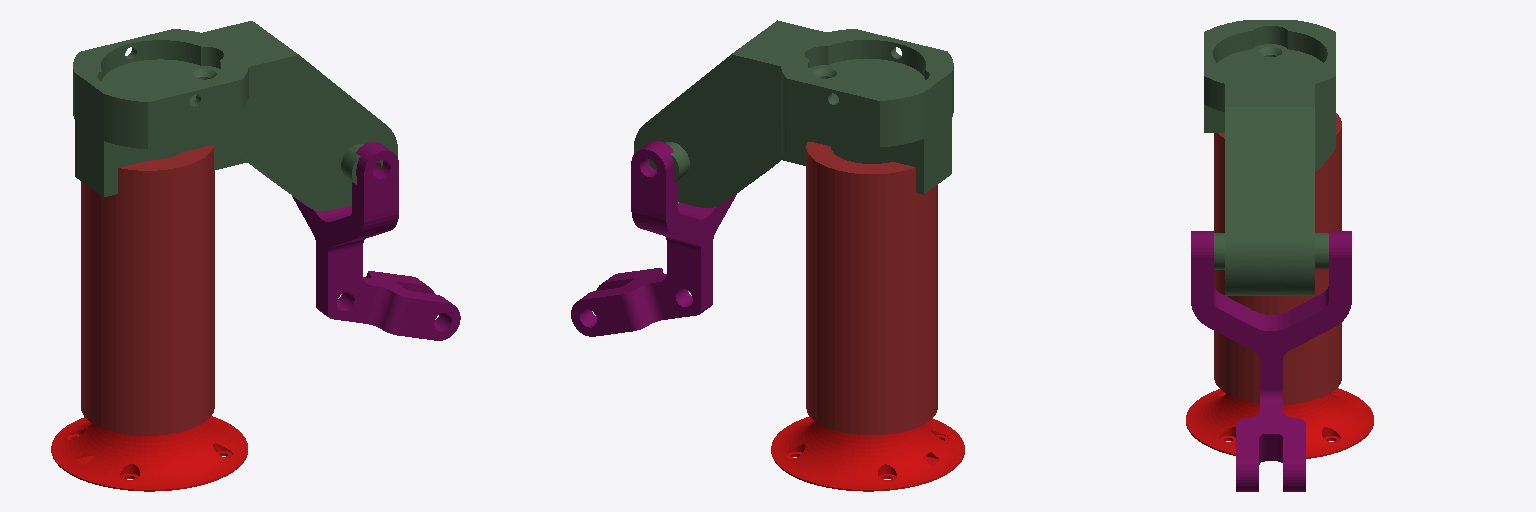
URDF robot description (PRRrobotstl):
<?xml version="1.0"?>
<robot name="PRRrobotstl">
    <!-- [author]/[number redacted] -->
    <material name = 'color1'>
        <color rgba='0.6 0.2 0.2 0.8' />
    </material>
    <material name = 'color2'>
        <color rgba='0.3 0.4 0.3 0.9' />
    </material>
    <material name = 'color3'>
        <color rgba='0.5 0.1 0.4 0.7' />
    </material>
    <material name = 'colorbase'>
        <color rgba='0.8 0.1 0.1 0.9' />
    </material>
    <link name="baseLink" >
        <visual>
            <geometry>
                <mesh filename="package://PRRproje/base3.stl"/>
            </geometry>
            <material name='colorbase' />
            <origin xyz="0 0 -0.15" />
        </visual>
        <collision>
            <geometry>
                <box size='2 2 0.1' />
            </geometry>
        </collision>
    </link>
    <link name="prismaticLink" >
        <visual>
            <geometry>
                <mesh filename="package://PRRproje/prismatic.stl"/>
            </geometry>
            <material name='color1' />
            <origin xyz="-0.625 1.24 -0.3" />
        </visual>
        <collision>
            <geometry>
                <cylinder radius="0.25" length="0.8"  />
            </geometry>
        </collision>
    </link>
    <link name="revoluteLink1" >
        <visual>
            <geometry>
                <mesh filename="package://PRRproje/shoulder.stl"/>
            </geometry>
            <material name='color2' />
            <origin  xyz="-0.960 -0.18 -0.2"/>
        </visual>
        <collision>
            <geometry>
                <box size='0.3 0.3 0.8' />
            </geometry>
        </collision>
    </link>
    <link name="revoluteLink2" >
        <visual>
            <geometry>
                <mesh filename="package://PRRproje/gridle.stl"/>
            </geometry>
            <material name='color3' />
            <origin  xyz="0.22 0.225 0"/>
        </visual>
        <collision>
            <geometry>
                <box size='0.2 0.2 0.8' />
            </geometry>
        </collision>
    </link>
    <joint name="baseToprismatic" type="prismatic">
        <parent link="baseLink" />
        <child link="prismaticLink" />
        <axis xyz="0 0 1" />
        <limit effort='30' velocity='1.0' lower="-1" upper="1" />
    </joint>
    <joint name="prismaticTorevolute1" type="revolute">
        <parent link="prismaticLink" />
        <child link="revoluteLink1" />
        <limit effort='30' velocity='1.0' lower="-1" upper="1" />
        <origin xyz="0 0 0.8" rpy="0 1.5708 0" />
        <axis xyz="0 1 0" />
    </joint>
    <joint name="revolute1Torevolute2" type="revolute">
        <parent link="revoluteLink1" />
        <child link="revoluteLink2" />
        <limit effort='30' velocity='1.0' lower="-1" upper="1" />
        <origin xyz="0 0 0.8" rpy="0 1.5708 0" />
        <axis xyz="1 0 0" />
    </joint>
</robot>

--- Facts derived from the render (not from the file) ---
Views: 3 orthographic renders of the robot side by side, from view 1: azimuth 30°, elevation 25°; view 2: azimuth 150°, elevation 25°; view 3: azimuth 270°, elevation 25°.
Robot: PRRrobotstl — 4 links, 3 joints (2 revolute, 1 prismatic); root link baseLink; default pose: all joints at 0.
Visible links, largest first — view 1: revoluteLink1, prismaticLink, revoluteLink2, baseLink; view 2: revoluteLink1, prismaticLink, revoluteLink2, baseLink; view 3: revoluteLink1, revoluteLink2, prismaticLink, baseLink.
Boxes of the visible links, bbox=[...] form: revoluteLink1: bbox=[73, 21, 397, 210]; prismaticLink: bbox=[81, 145, 214, 435]; revoluteLink2: bbox=[292, 142, 460, 340]; baseLink: bbox=[51, 416, 247, 491]; revoluteLink1: bbox=[634, 20, 953, 207]; prismaticLink: bbox=[806, 142, 937, 434]; revoluteLink2: bbox=[571, 141, 736, 336]; baseLink: bbox=[771, 416, 964, 491]; revoluteLink1: bbox=[1204, 20, 1335, 295]; revoluteLink2: bbox=[1191, 231, 1351, 491]; prismaticLink: bbox=[1214, 113, 1341, 404]; baseLink: bbox=[1186, 388, 1373, 458].
Size in the robot's own frame: 1.29 by 0.59 by 1.28 metres.
Meshes: 4 distinct files referenced, 4 mesh visuals loaded (4 binary STL).